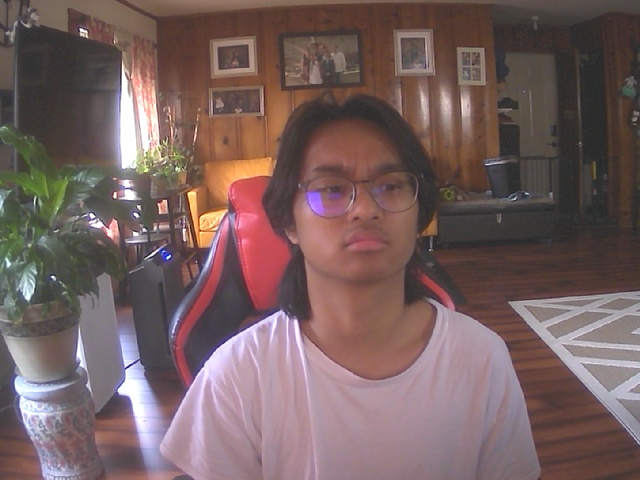anger: (280, 111, 432, 287)
